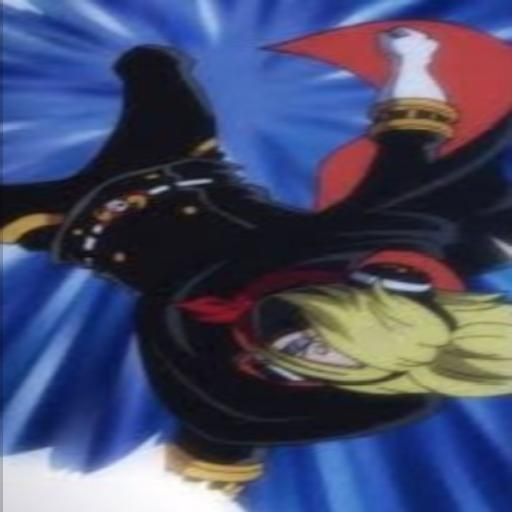sanji: (0, 30, 512, 512)
